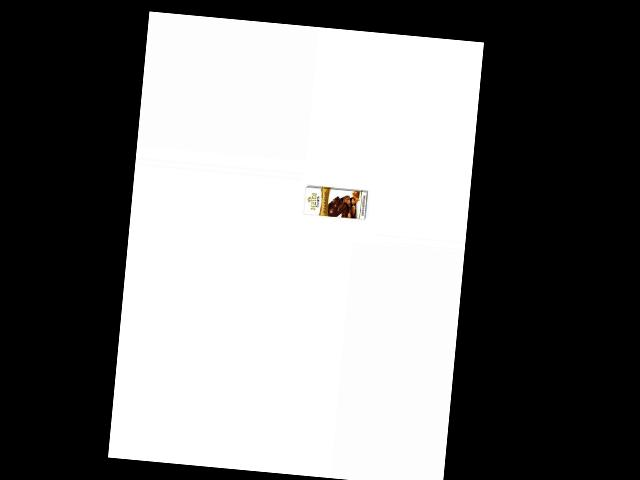chocolate: (299, 179, 367, 226)
